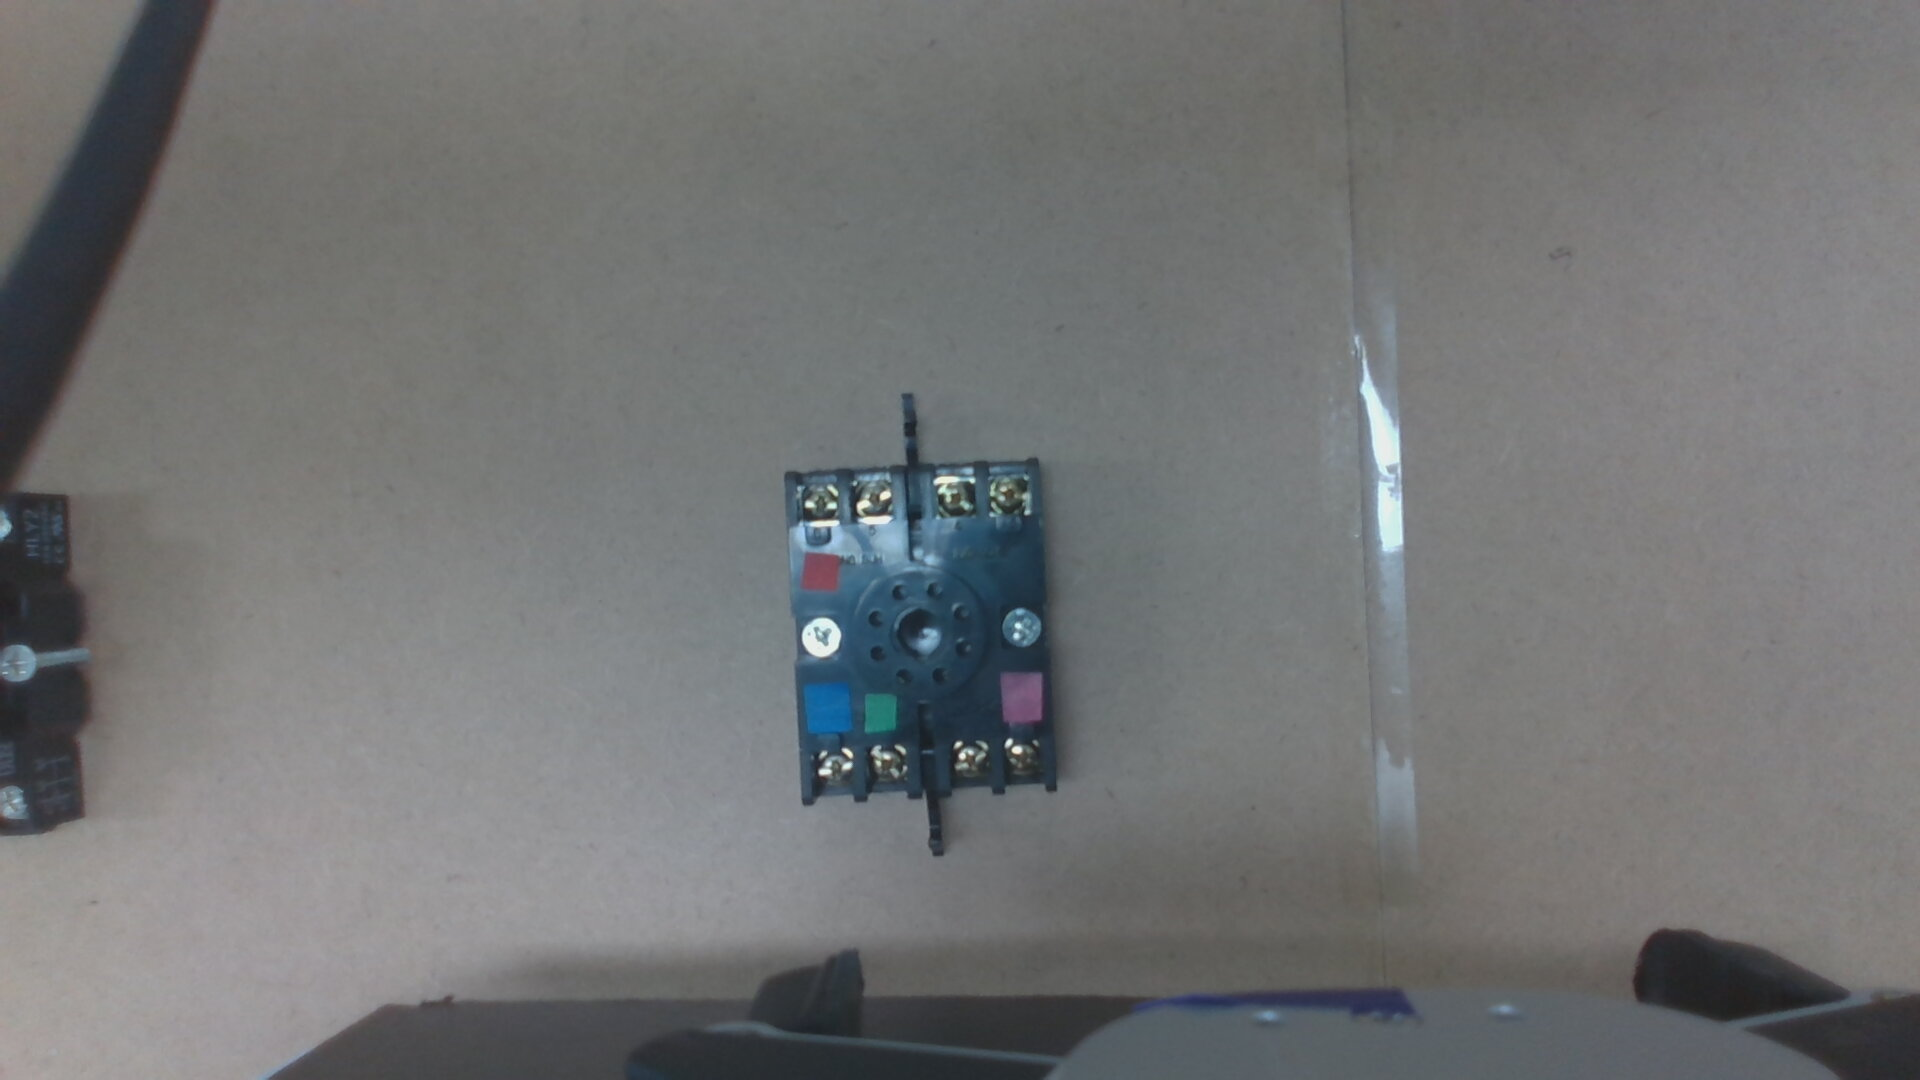timer 2: (1005, 740, 1040, 777)
timer 6: (799, 487, 835, 516)
timer 7: (810, 752, 852, 786)
timer 8: (866, 744, 906, 785)
